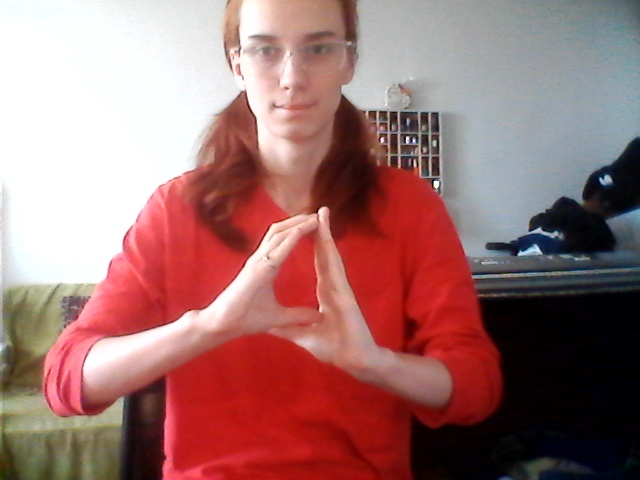d: (233, 203, 377, 381)
